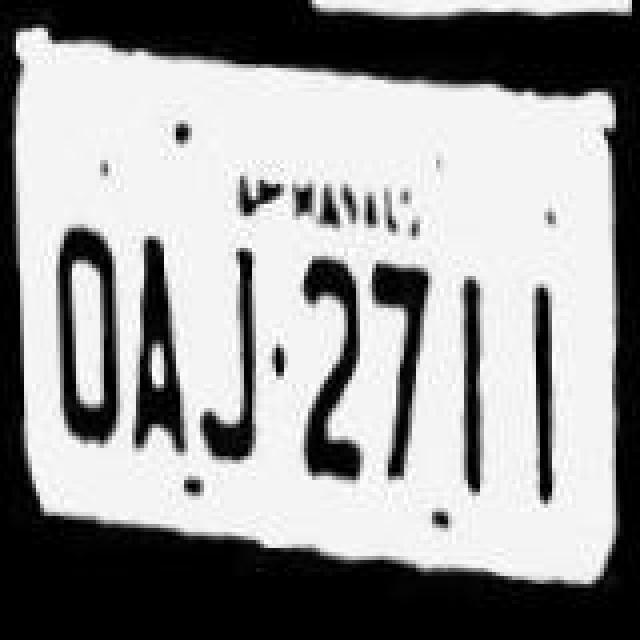1: (508, 240, 568, 516), (444, 262, 504, 506)
2: (284, 238, 368, 498)
7: (356, 244, 440, 504)
A: (120, 216, 192, 472)
J: (188, 232, 272, 476)
O: (36, 208, 124, 480)
